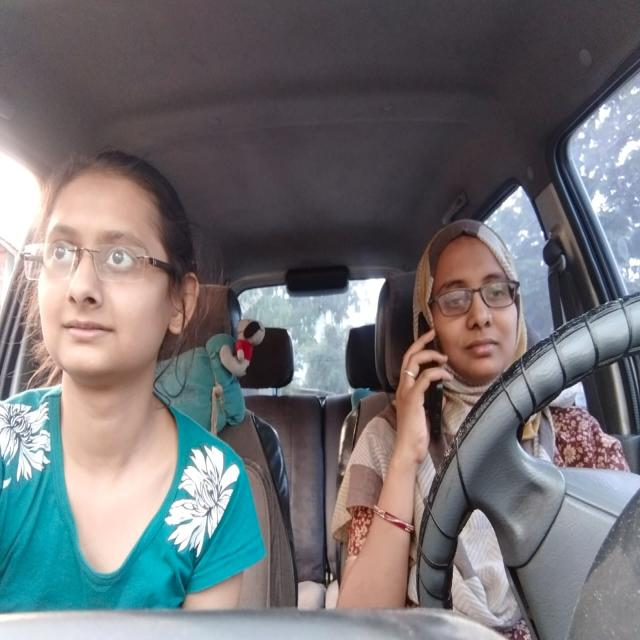mobile: (412, 320, 453, 440)
person: (26, 150, 198, 380), (420, 219, 525, 388)
